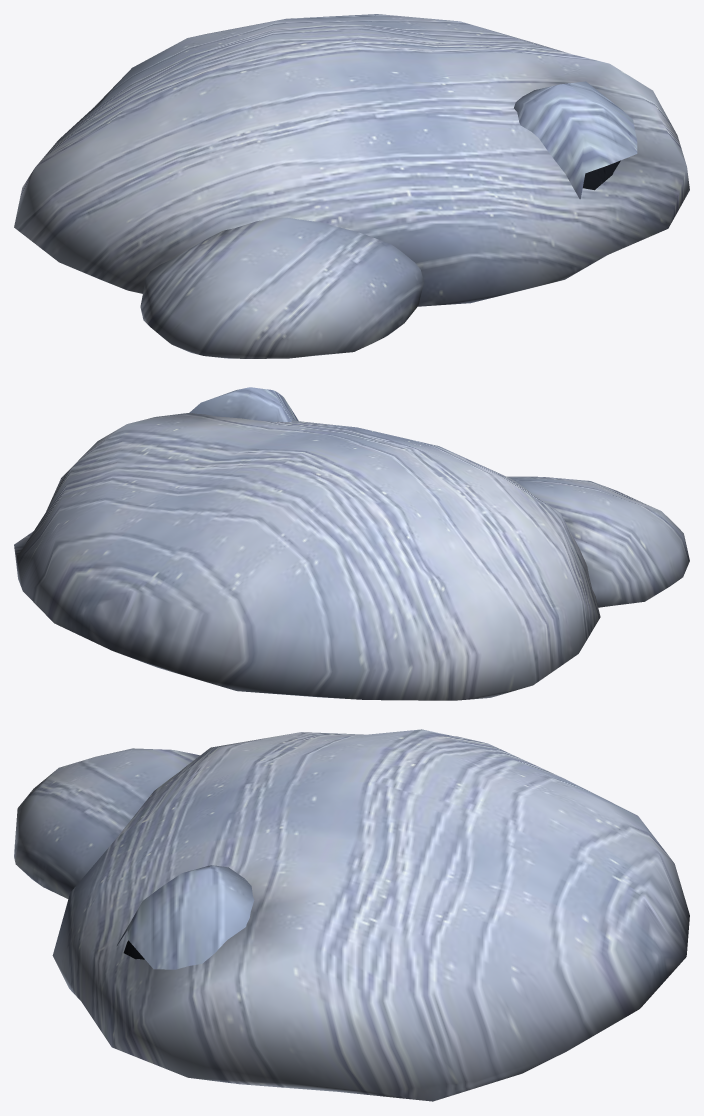
The model's file is rimeshore_snowdrift_b.glb.
3 renders of one model, top to bottom at view 1: azimuth 30°, elevation 25°; view 2: azimuth 150°, elevation 25°; view 3: azimuth 270°, elevation 25°, orthographic. The views are drawn at different scales.
Visible parts, largest first — view 1: rimeshore_snowdrift_b; view 2: rimeshore_snowdrift_b; view 3: rimeshore_snowdrift_b.
Boxes of the visible parts, x1,y1,x2,y2 form: rimeshore_snowdrift_b: (14, 14, 689, 358); rimeshore_snowdrift_b: (14, 387, 689, 700); rimeshore_snowdrift_b: (14, 729, 689, 1101).
Size of the model in its own units: 2.01 by 0.4984 by 1.82.
2 materials, 2 textured.
